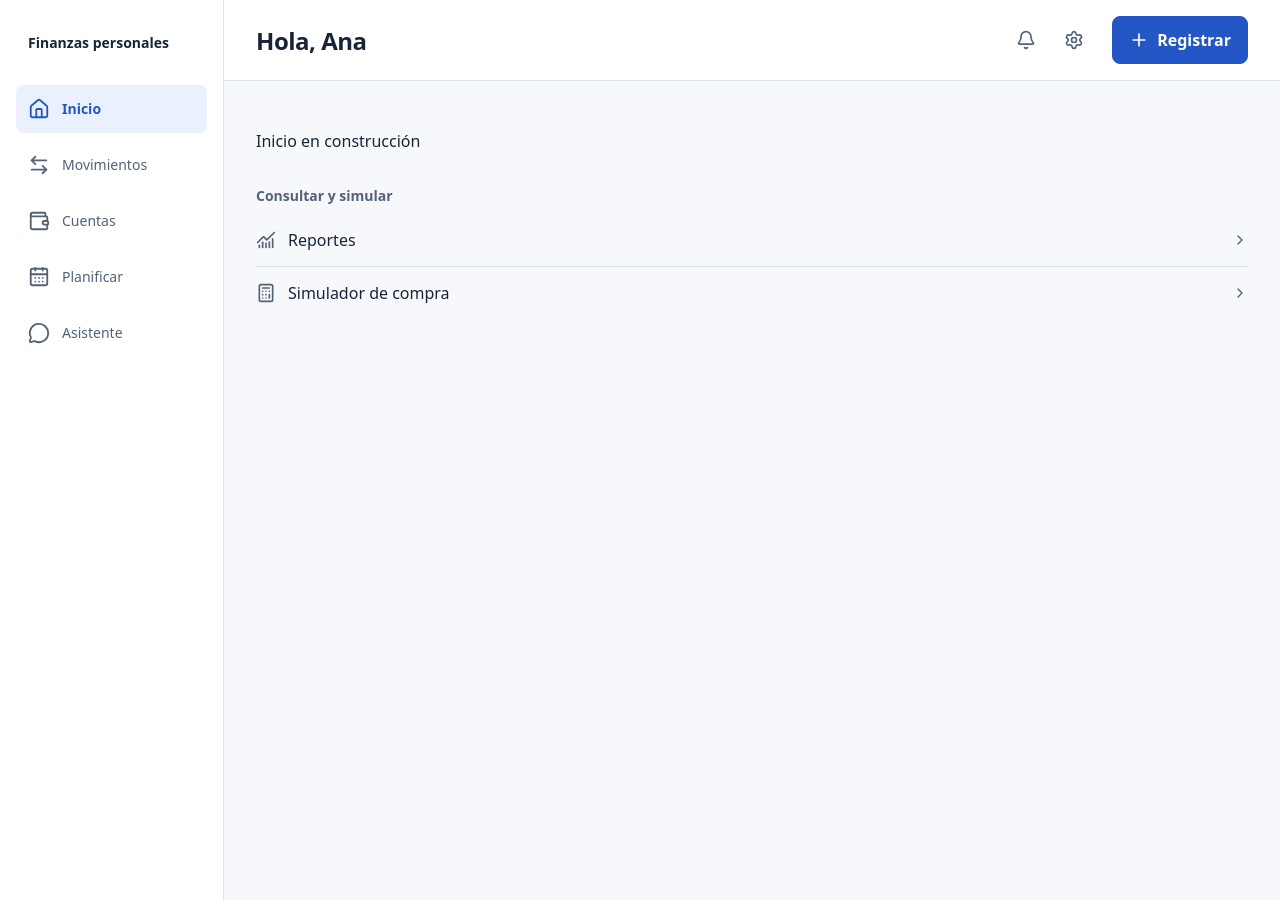
Test: shows the actual profile as read-only information and groups tools by purpose
Click the link named "Ajustes" at {"x": 1074, "y": 40}, box x1=1064 y1=30 x2=1084 y2=50
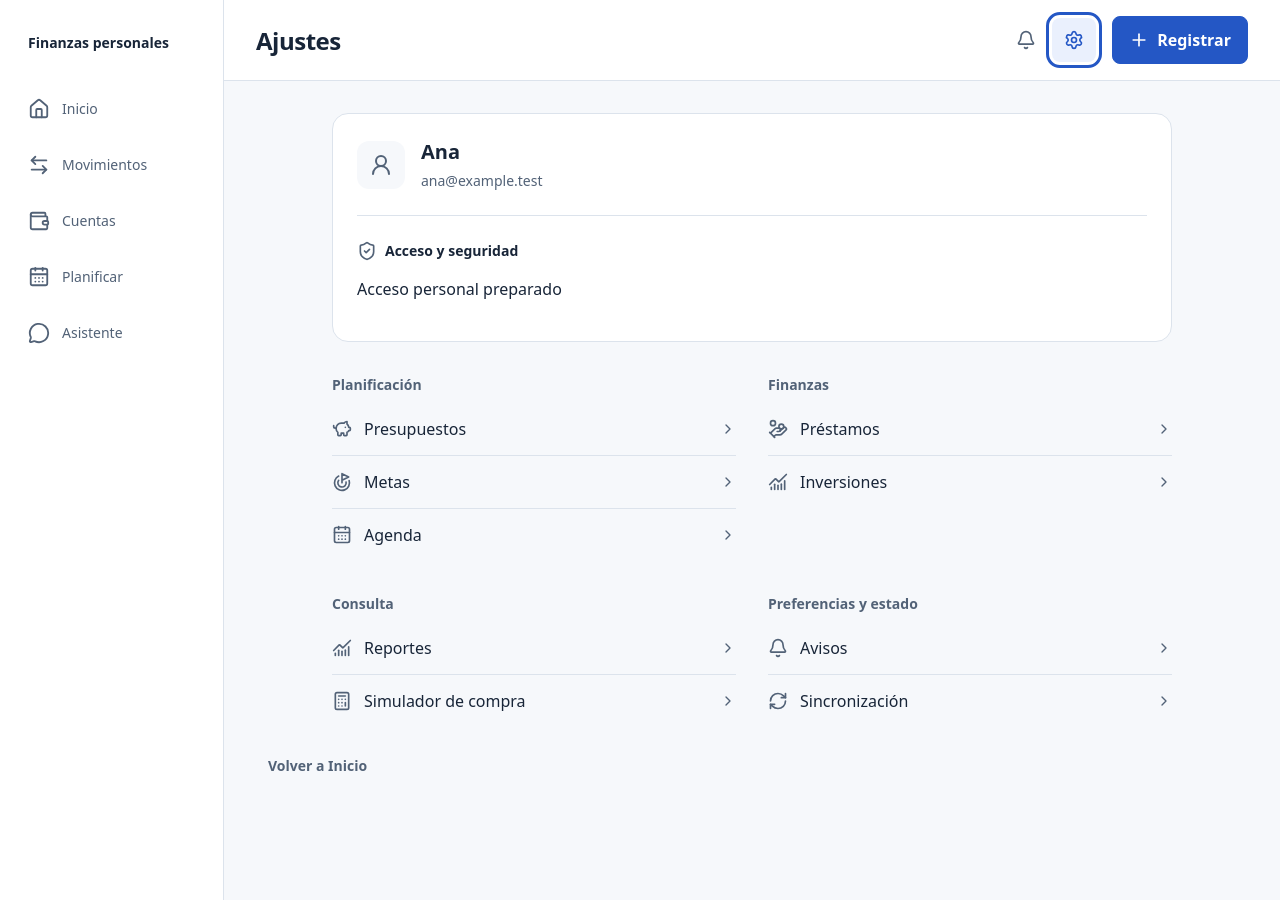
Now the element named "Tu perfil" shows "Ana", box x1=421 y1=138 x2=460 y2=165
Now the text "ana@example.test" is shown, box x1=421 y1=170 x2=542 y2=191
Now the heading "Acceso y seguridad" is shown, box x1=357 y1=241 x2=518 y2=261
